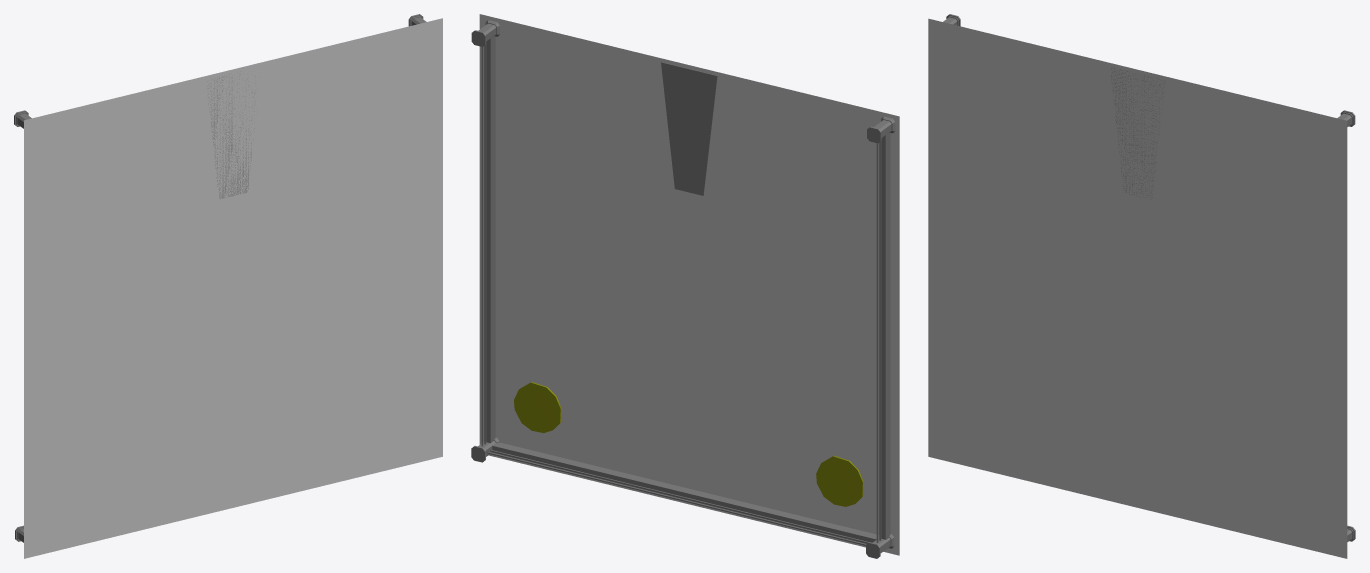
The model's file is L_Urban03.fbx.
The picture shows the model from 3 angles, left to right: view 1: azimuth 30°, elevation 25°; view 2: azimuth 150°, elevation 25°; view 3: azimuth 330°, elevation 25°; orthographic projection.
Parts seen in each view (by area): view 1: land_c032; view 2: land_c032; view 3: land_c032.
Boxes of the visible parts, left/top/right/bottom form: land_c032: left=14, top=14, right=442, bottom=558; land_c032: left=471, top=14, right=899, bottom=558; land_c032: left=928, top=14, right=1355, bottom=558.
Size of the model in its own units: 2500 by 2500 by 148.
